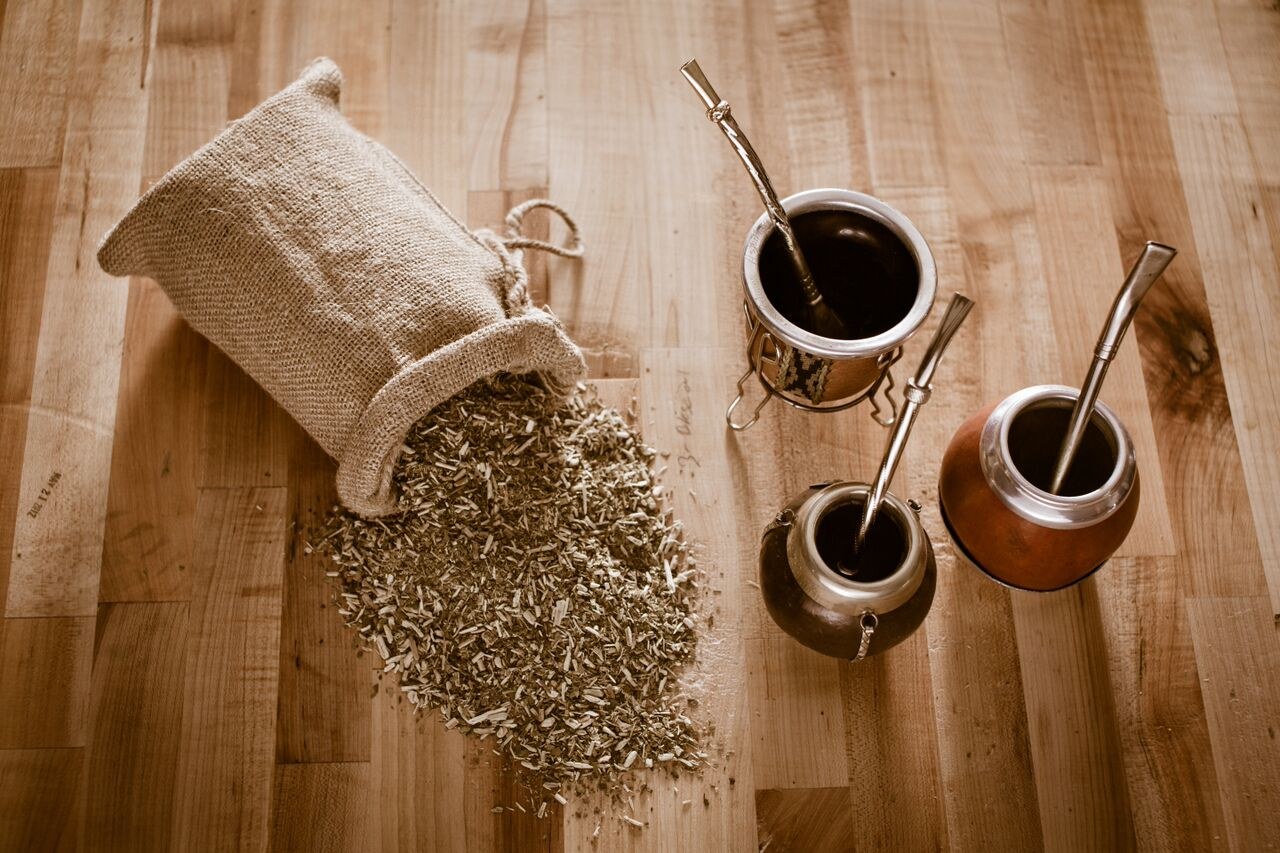guampa: (972, 192, 1215, 666), (660, 60, 907, 426), (750, 465, 933, 666)
